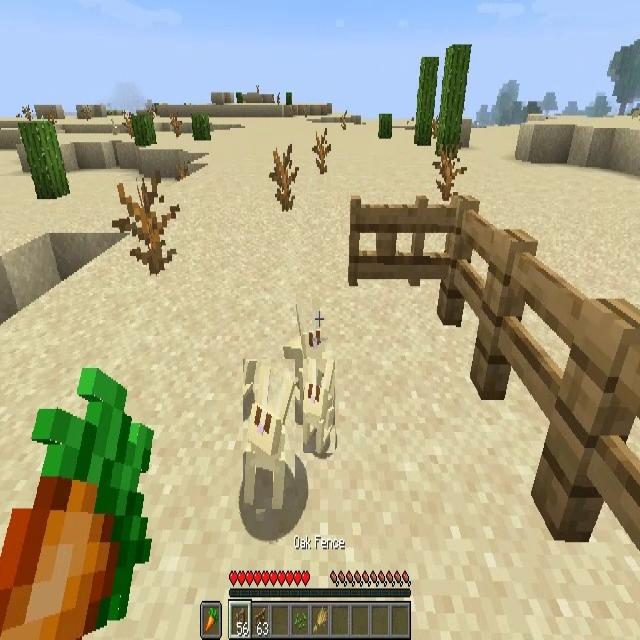rabbit: (243, 359, 295, 509), (285, 301, 324, 405), (303, 359, 335, 453)
